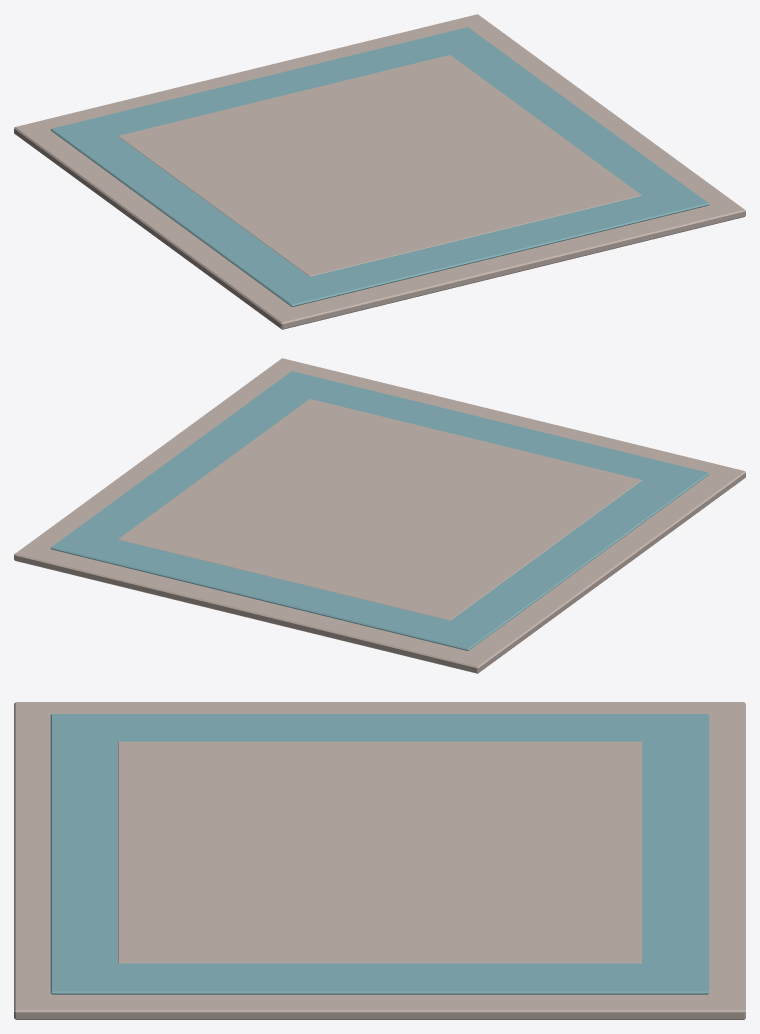
Rendered from care-home-and-day-room-day-room-carpet-tile-3d3f63f9__35768.glb.
3 views of the same model, one above another, from view 1: azimuth 30°, elevation 25°; view 2: azimuth 150°, elevation 25°; view 3: azimuth 270°, elevation 25° (orthographic). The views are drawn at different scales.
Parts seen in each view (by area): view 1: day-room-carpet-tile; view 2: day-room-carpet-tile; view 3: day-room-carpet-tile.
Part boxes in pixels (box(x1,y1,x2,y2)): day-room-carpet-tile: box(14, 14, 745, 329); day-room-carpet-tile: box(14, 358, 745, 673); day-room-carpet-tile: box(14, 702, 745, 1019).
Size of the model in its own units: 1.2 by 0.025 by 1.2.
